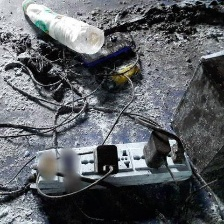bottle: (18, 0, 107, 58)
phone: (74, 28, 137, 68)
three_eye_plug: (25, 133, 197, 200)
